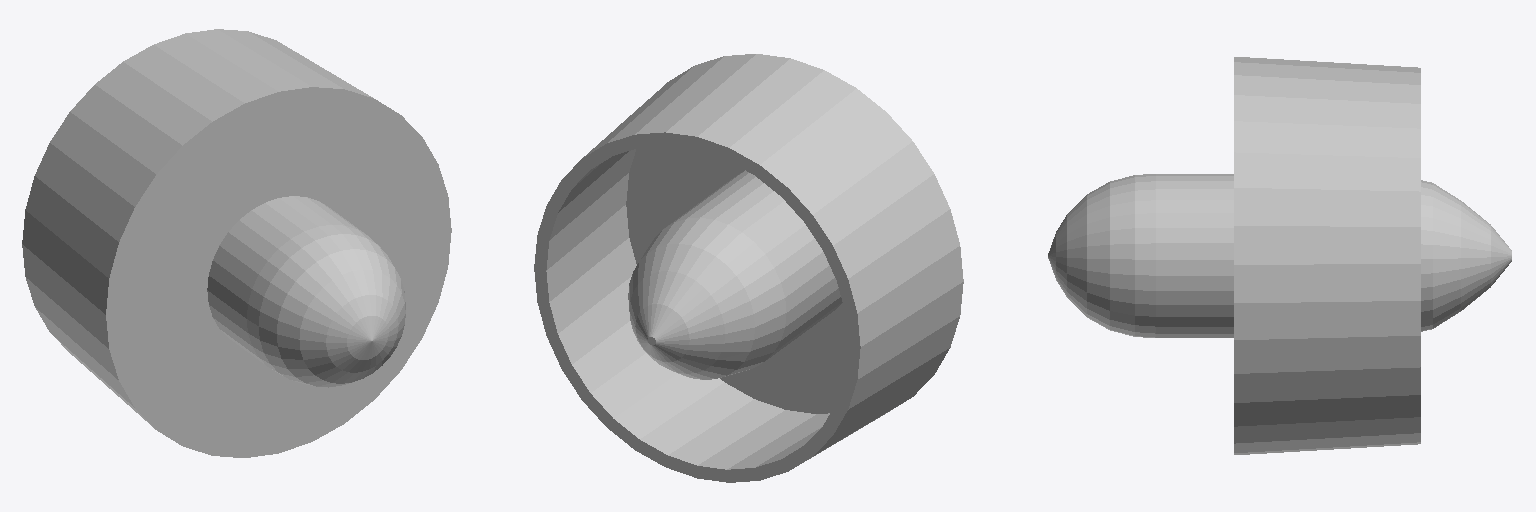
The model's file is duct_up_left_phy.obj.
3 views of the same model, side by side, from view 1: azimuth 30°, elevation 25°; view 2: azimuth 150°, elevation 25°; view 3: azimuth 270°, elevation 25° (orthographic).
Parts seen in each view (by area): view 1: duct_up_left_phy; view 2: duct_up_left_phy; view 3: duct_up_left_phy.
Boxes of the visible parts, x1,y1,x2,y2 form: duct_up_left_phy: [22, 29, 451, 457]; duct_up_left_phy: [534, 54, 963, 482]; duct_up_left_phy: [1048, 57, 1511, 454].
Size of the model in its own units: 0.0967 by 0.0967 by 0.1126.